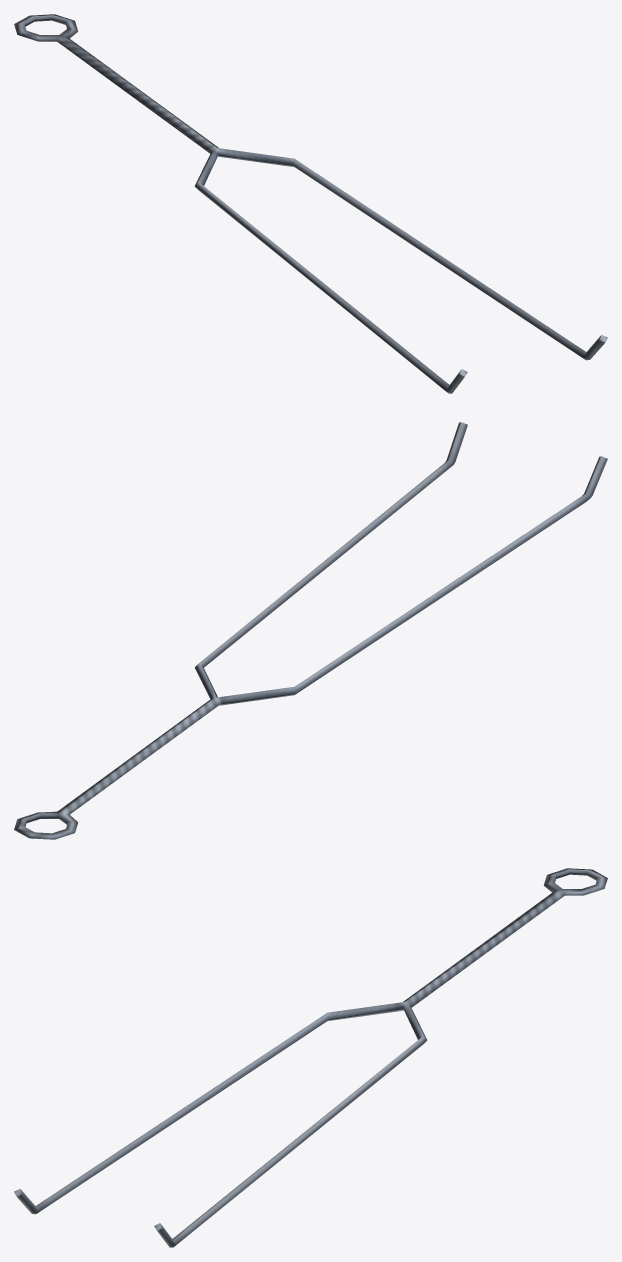
Rendered from jsf_Monaca_Poi_Wire.fbx.
3 renders of one model, top to bottom at view 1: azimuth 30°, elevation 25°; view 2: azimuth 150°, elevation 25°; view 3: azimuth 330°, elevation 25°, orthographic.
Visible parts, largest first — view 1: jsf_Monaca_Poi_Wire; view 2: jsf_Monaca_Poi_Wire; view 3: jsf_Monaca_Poi_Wire.
Part boxes in pixels (x1,y1,x2,y2): jsf_Monaca_Poi_Wire: [14, 14, 607, 393]; jsf_Monaca_Poi_Wire: [14, 422, 607, 839]; jsf_Monaca_Poi_Wire: [14, 868, 607, 1247].
Size of the model in its own units: 2.18 by 0.4992 by 12.8.
